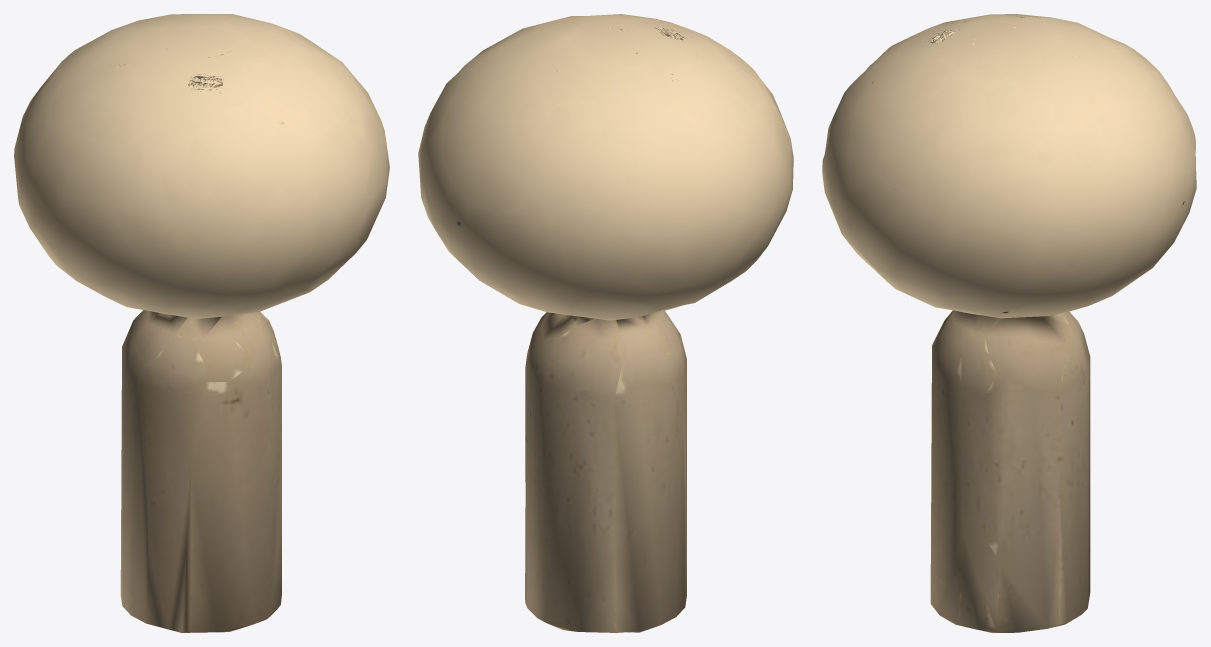
File: vtGGw2R7x41cAYtfY12Qv.glb
3 views of the same model, side by side, from view 1: azimuth 30°, elevation 25°; view 2: azimuth 150°, elevation 25°; view 3: azimuth 270°, elevation 25° (orthographic).
Parts seen in each view (by area): view 1: geometry_0; view 2: geometry_0; view 3: geometry_0.
Boxes of the visible parts, bbox=[...] form: geometry_0: bbox=[14, 14, 389, 632]; geometry_0: bbox=[418, 14, 793, 632]; geometry_0: bbox=[822, 14, 1196, 632].
Bounding box in the file's own units: 0.6101 × 1 × 0.6073.
1 material, 1 textured.
